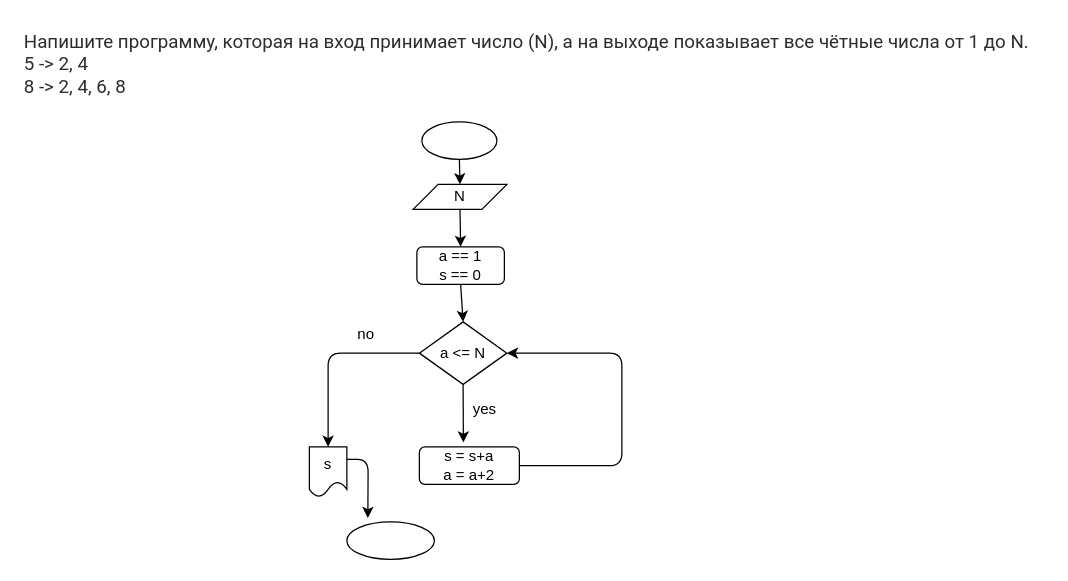
This 1068x581 diagram has some shape labels left out. Each missing label, with the box of its shape:
end: (346, 521, 434, 559)
Start: (421, 121, 497, 159)
